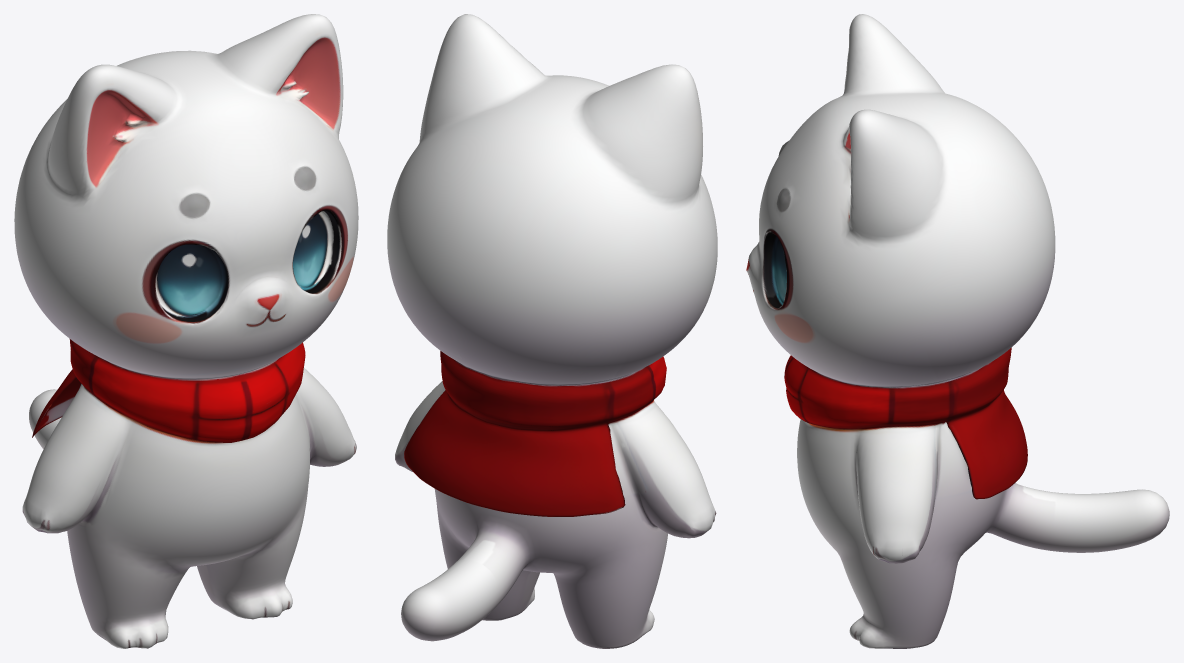
File: cat_with_scarf.glb
The picture shows the model from 3 angles, left to right: view 1: azimuth 30°, elevation 25°; view 2: azimuth 150°, elevation 25°; view 3: azimuth 270°, elevation 25°; orthographic projection. The views are drawn at different scales.
Visible parts, largest first — view 1: Object_2; view 2: Object_2; view 3: Object_2.
Part boxes in pixels (box(x1,y1,x2,y2)): Object_2: box(14, 14, 358, 648); Object_2: box(387, 14, 717, 648); Object_2: box(746, 14, 1169, 648).
Bounding box in the file's own units: 1.09 × 1.9 × 1.34.
Materials: 1 (1 with a texture image).
